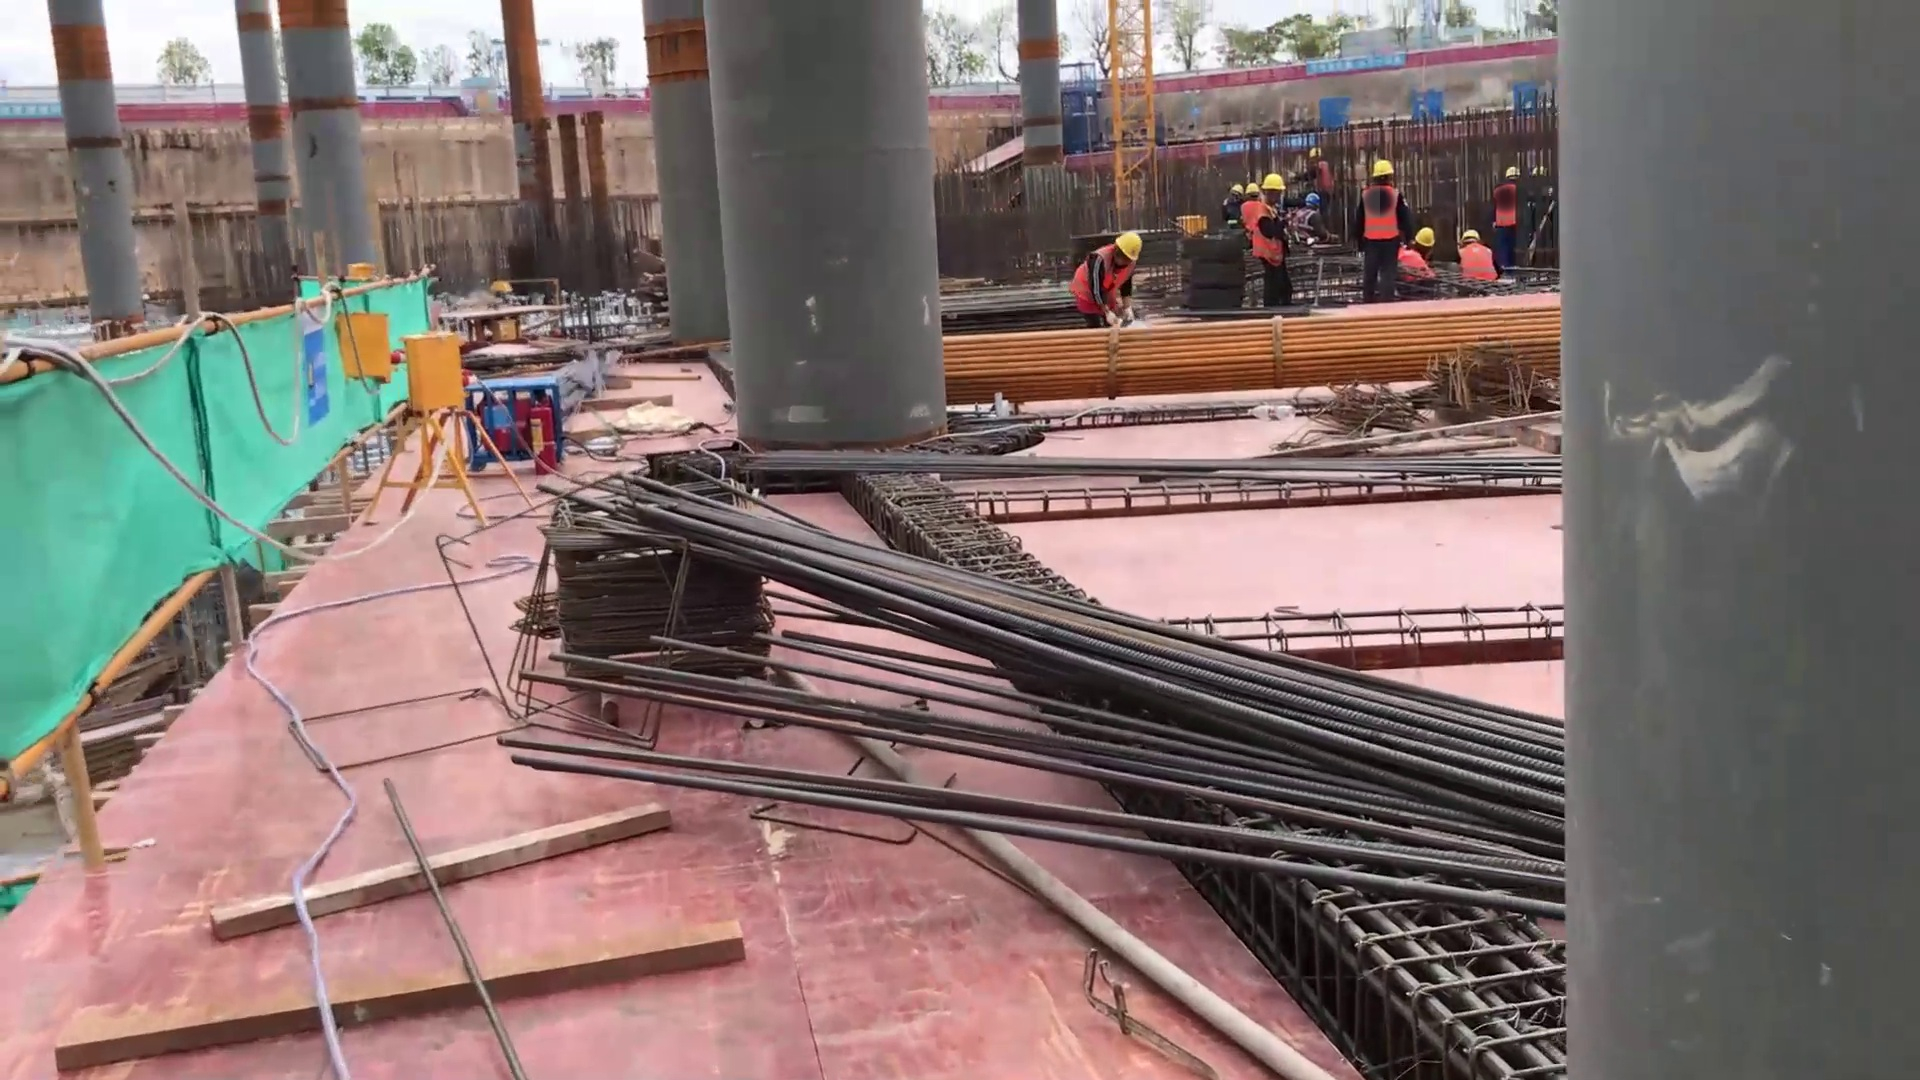helmet: (1369, 157, 1399, 180), (1114, 229, 1140, 255), (1262, 170, 1287, 191), (1418, 224, 1435, 250), (1457, 228, 1485, 244), (1501, 168, 1519, 185), (1530, 162, 1553, 175), (1305, 190, 1320, 208), (1308, 145, 1325, 160), (1246, 180, 1258, 195), (1232, 185, 1242, 197)
person: (1073, 224, 1141, 333), (1356, 158, 1397, 304), (1253, 176, 1293, 307), (1305, 146, 1343, 231), (1494, 167, 1519, 279), (1453, 225, 1495, 286), (1295, 192, 1335, 250), (1406, 220, 1439, 283), (1212, 177, 1242, 229), (1241, 182, 1260, 235)
vest: (1072, 247, 1135, 312), (1249, 203, 1284, 266), (1363, 188, 1398, 236), (1400, 247, 1433, 289), (1456, 247, 1498, 272), (1290, 206, 1320, 240), (1493, 184, 1517, 228), (1309, 161, 1335, 192), (1239, 200, 1263, 225), (1224, 195, 1240, 224)
